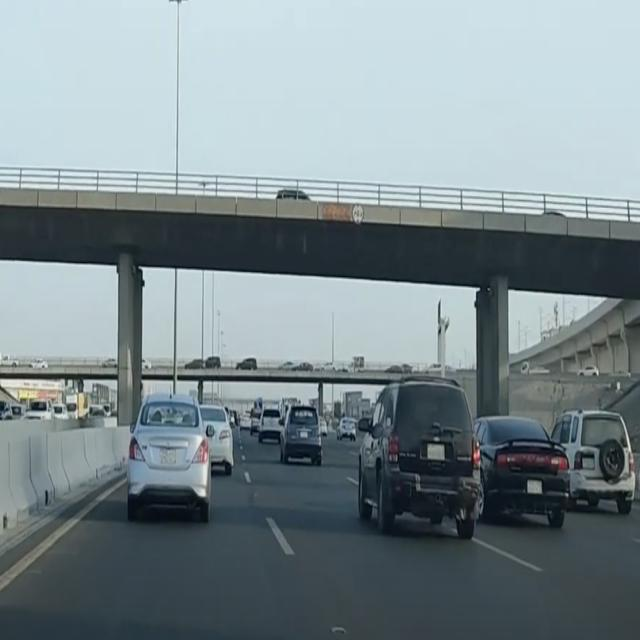license_plate: (158, 448, 176, 466), (427, 444, 445, 461), (526, 480, 542, 495), (582, 459, 594, 469), (300, 432, 308, 438), (270, 422, 274, 427), (347, 432, 350, 436)
